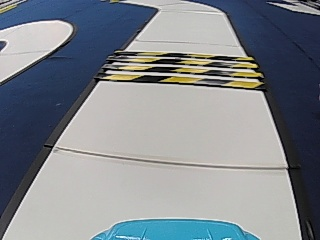bump: (94, 48, 269, 96)
